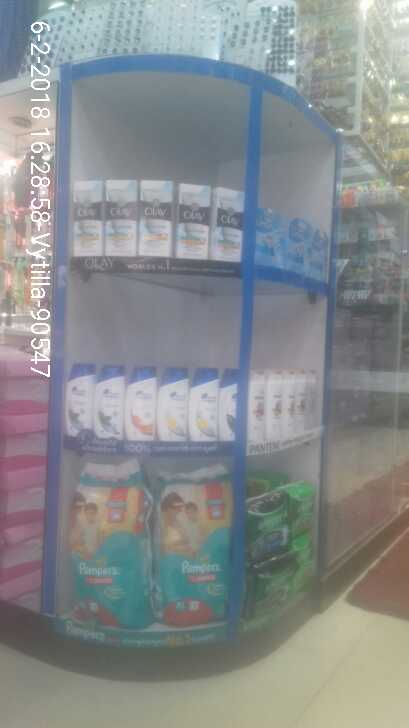venus: (254, 212, 282, 269), (284, 214, 306, 281), (307, 231, 328, 281)
